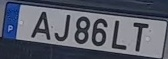6: (91, 17, 108, 47)
8: (74, 15, 90, 44)
A: (29, 10, 51, 40)
J: (54, 14, 71, 42)
L: (110, 19, 127, 50)
T: (132, 21, 150, 52)
